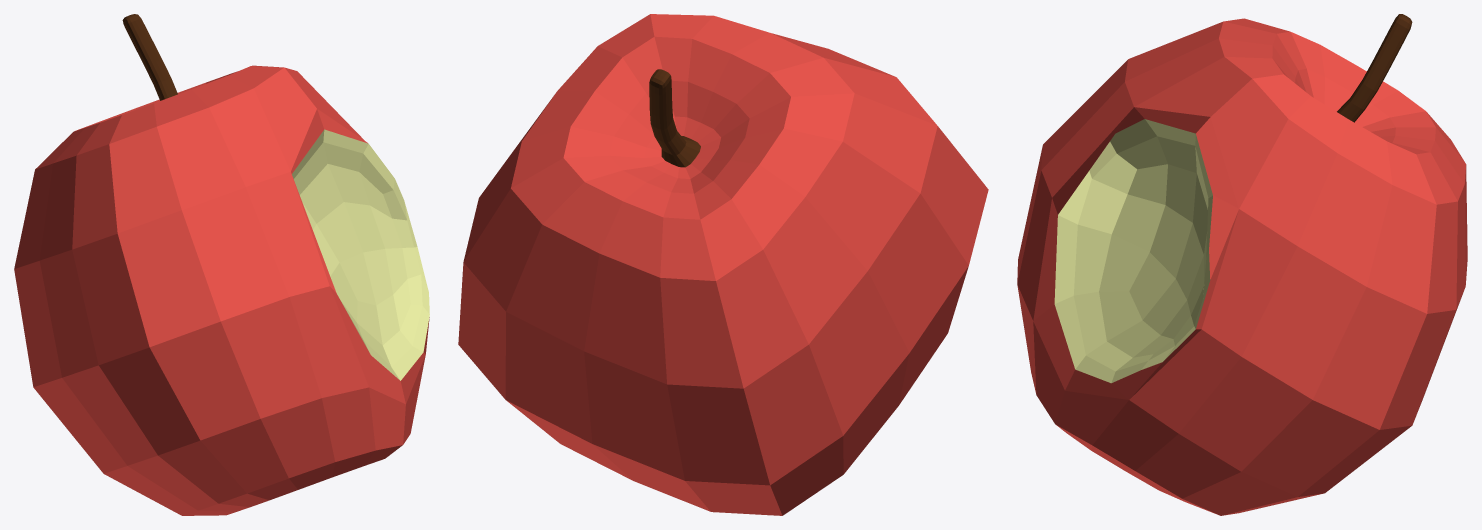
Rendered from manzanaMordida.fbx.
The picture shows the model from 3 angles, left to right: view 1: azimuth 30°, elevation 25°; view 2: azimuth 150°, elevation 25°; view 3: azimuth 270°, elevation 25°; orthographic projection. The views are drawn at different scales.
Parts seen in each view (by area): view 1: manzana.001; view 2: manzana.001; view 3: manzana.001.
Boxes of the visible parts, bbox=[...] form: manzana.001: bbox=[14, 14, 429, 515]; manzana.001: bbox=[458, 14, 988, 515]; manzana.001: bbox=[1017, 14, 1467, 515].
Size of the model in its own units: 0.7586 by 0.872 by 0.7729.
